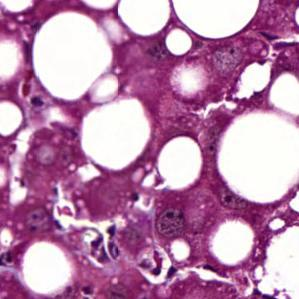steatosis: (156, 133, 202, 194), (165, 28, 194, 60)
